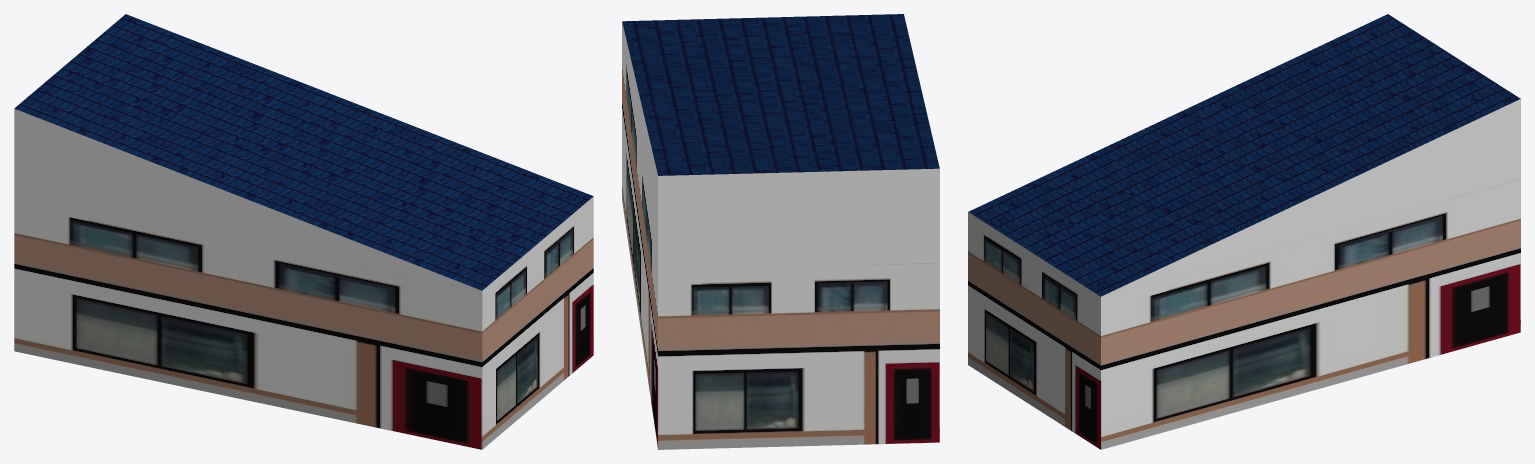
3 renders of one model, left to right at view 1: azimuth 30°, elevation 25°; view 2: azimuth 150°, elevation 25°; view 3: azimuth 270°, elevation 25°, orthographic. The views are drawn at different scales.
Visible parts, largest first — view 1: CityEngineMaterial_5_m, CityEngineMaterial_6_m, CityEngineMaterial_3_m; view 2: CityEngineMaterial_5_m, CityEngineMaterial_6_m, CityEngineMaterial_3_m; view 3: CityEngineMaterial_5_m, CityEngineMaterial_6_m, CityEngineMaterial_3_m.
Part boxes in pixels (x1,y1,x2,y2): CityEngineMaterial_5_m: (14,192,593,449); CityEngineMaterial_6_m: (14,14,593,290); CityEngineMaterial_3_m: (14,108,480,290); CityEngineMaterial_5_m: (622,21,939,449); CityEngineMaterial_6_m: (622,14,939,175); CityEngineMaterial_3_m: (622,23,939,270); CityEngineMaterial_5_m: (968,179,1520,449); CityEngineMaterial_6_m: (968,14,1520,296); CityEngineMaterial_3_m: (1102,99,1520,296).
Bounding box in the file's own units: 26.2 × 14.12 × 30.26.
